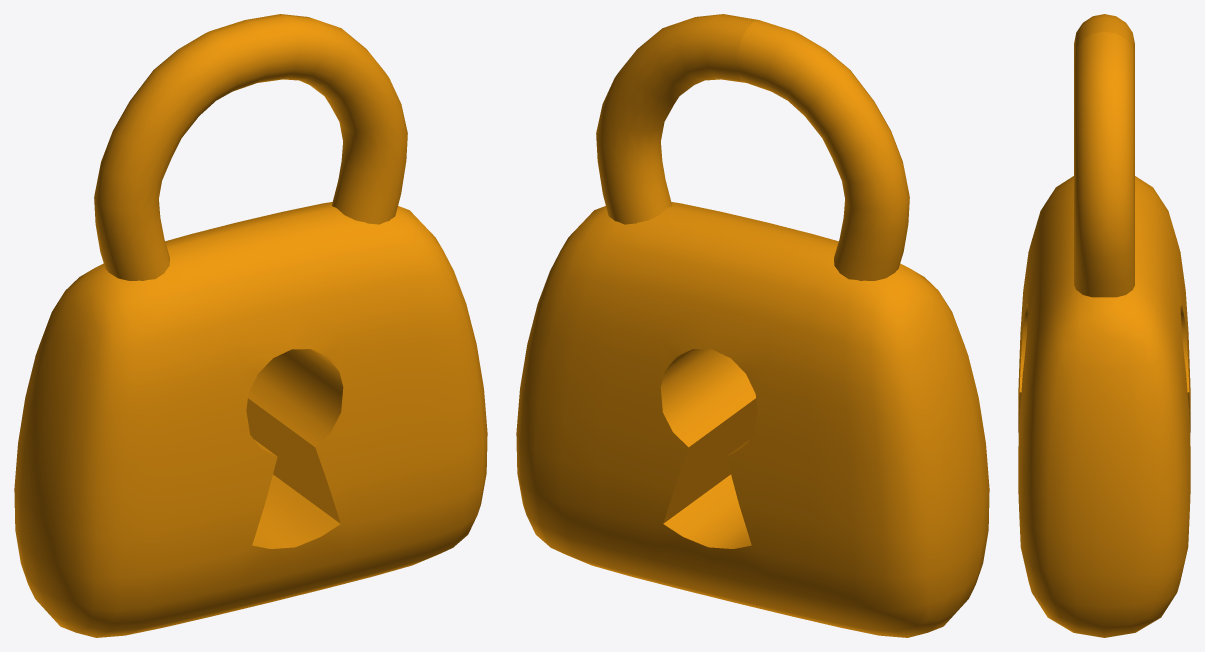
File: Cadena1.fbx
3 views of the same model, side by side, from view 1: azimuth 30°, elevation 25°; view 2: azimuth 150°, elevation 25°; view 3: azimuth 270°, elevation 25° (orthographic). The views are drawn at different scales.
Parts seen in each view (by area): view 1: Cube; view 2: Cube; view 3: Cube.
Boxes of the visible parts, x1,y1,x2,y2 form: Cube: (14,14,487,637); Cube: (516,14,989,637); Cube: (1018,14,1190,637).
Size of the model in its own units: 398 by 505 by 148.
